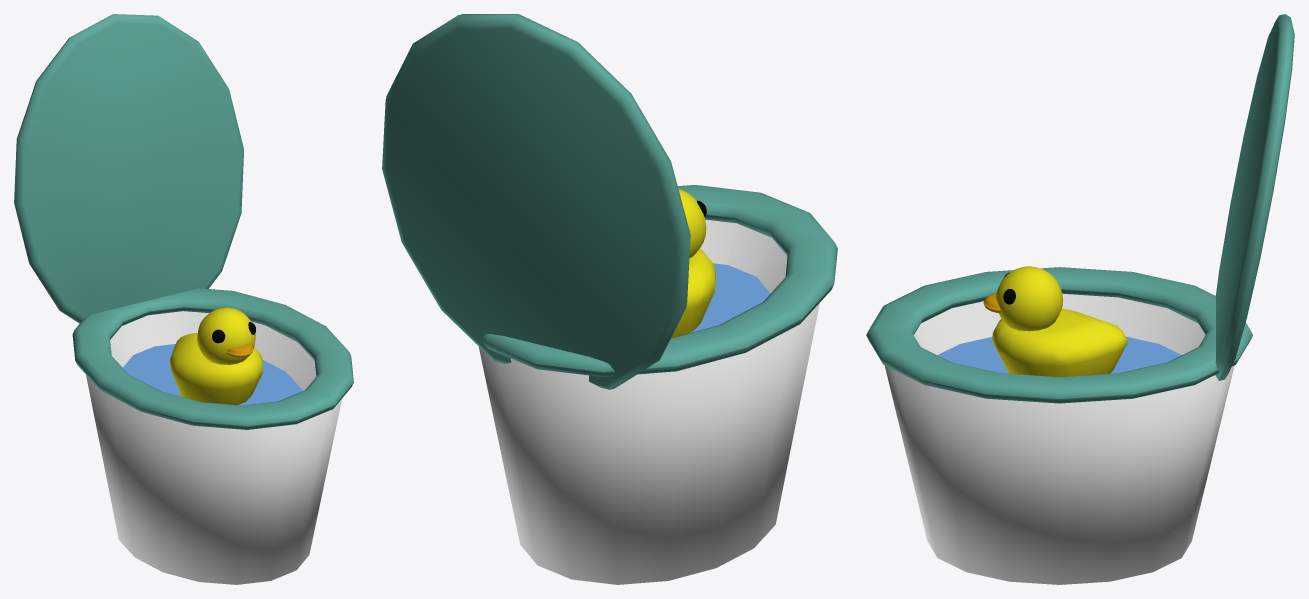
File: Toilet.fbx
The picture shows the model from 3 angles, left to right: view 1: azimuth 30°, elevation 25°; view 2: azimuth 150°, elevation 25°; view 3: azimuth 270°, elevation 25°; orthographic projection. The views are drawn at different scales.
Parts seen in each view (by area): view 1: seat, body, duck, water; view 2: seat, body, duck, water; view 3: body, seat, duck, water.
Part boxes in pixels (bbox=[...]): seat: bbox=[14, 14, 353, 429]; body: bbox=[86, 311, 341, 584]; duck: bbox=[170, 307, 262, 404]; water: bbox=[123, 344, 302, 405]; seat: bbox=[382, 14, 837, 389]; body: bbox=[478, 219, 819, 584]; duck: bbox=[671, 189, 715, 337]; water: bbox=[690, 263, 770, 332]; body: bbox=[884, 293, 1234, 584]; seat: bbox=[866, 14, 1294, 403]; duck: bbox=[983, 266, 1127, 376]; water: bbox=[937, 336, 1181, 373].
Size of the model in its own units: 53.49 by 101 by 75.91.
